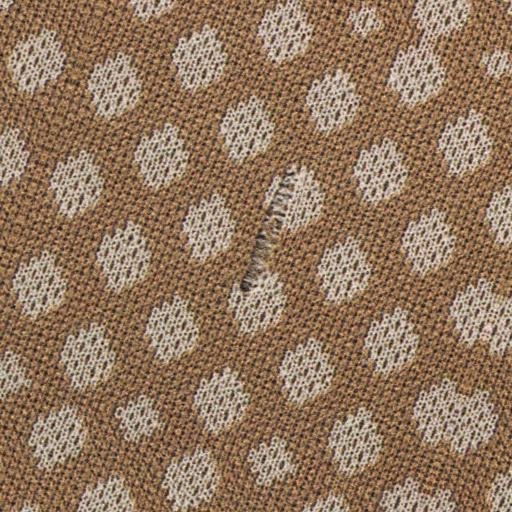slub: (221, 154, 321, 309)
